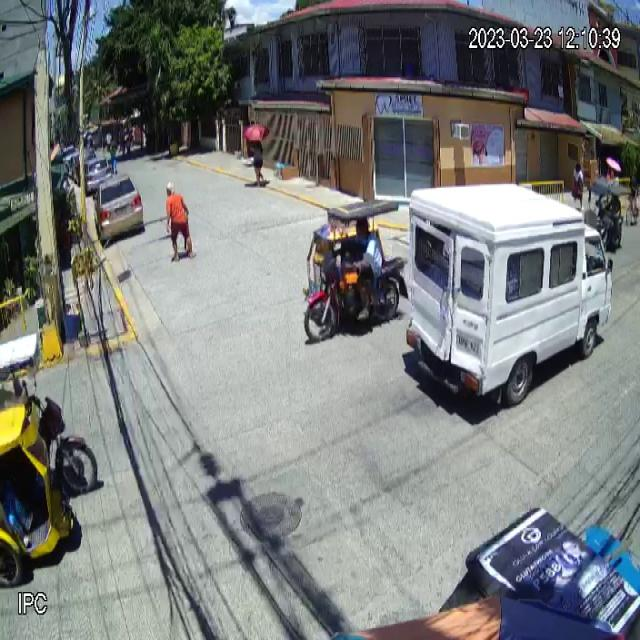Tricycle: (303, 198, 404, 348)
Van: (406, 186, 612, 405)
